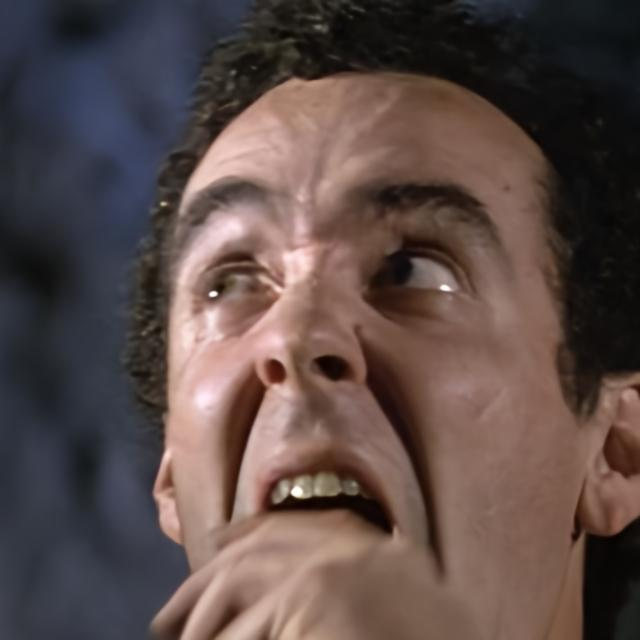fear: (160, 67, 582, 640)
